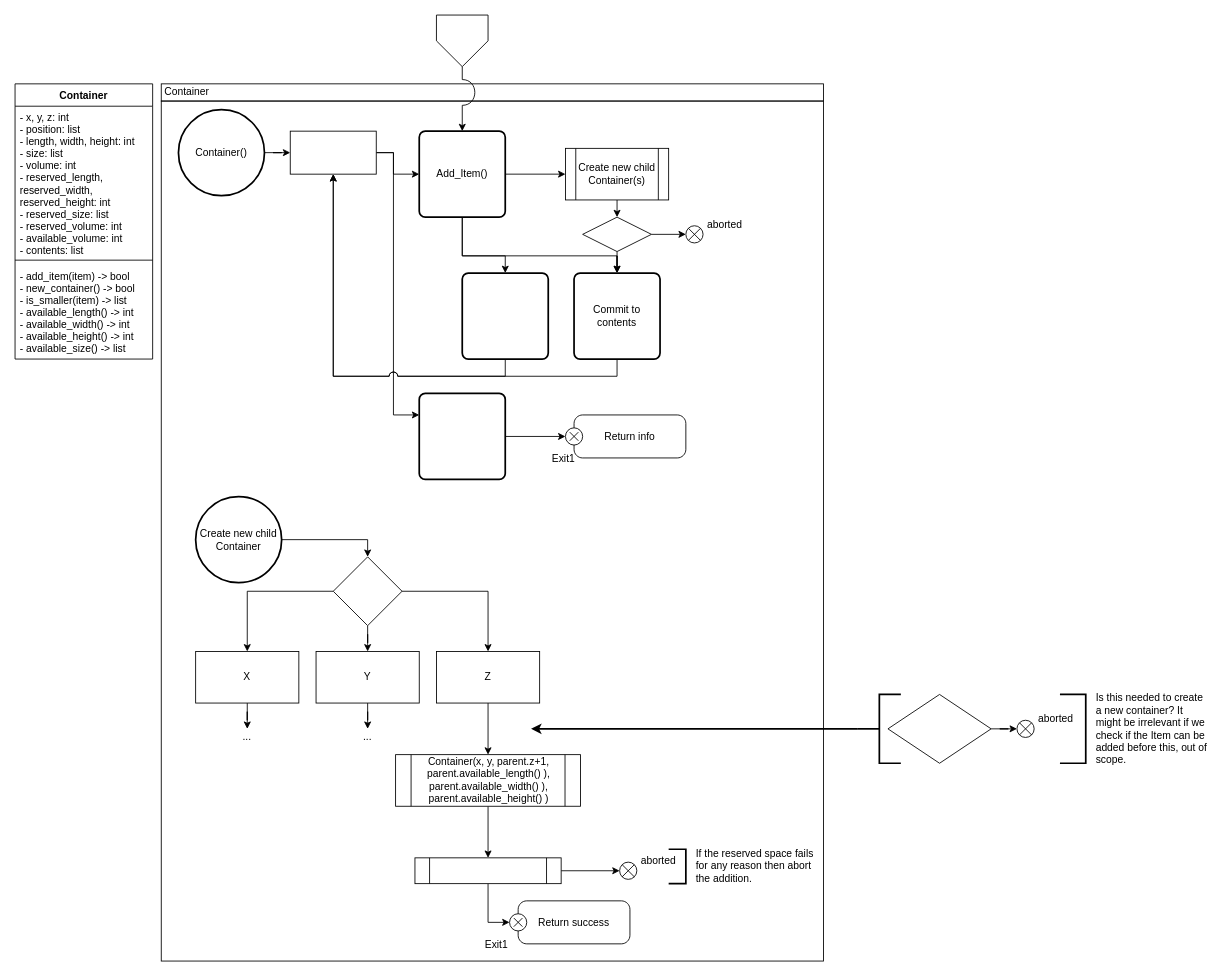
Image size: 1226x976. Some labels were removed from this diagram. Each missing label, with the box of its shape:
Available space enough: (887, 694, 991, 763)
Direction: (332, 556, 402, 626)
Error: (582, 216, 651, 252)
Get information about container: (418, 392, 506, 480)
Item: (436, 14, 488, 67)
Self: (289, 130, 376, 174)
Update available volume: (461, 272, 549, 359)
UpdateReservedSpace(): (414, 857, 561, 884)
